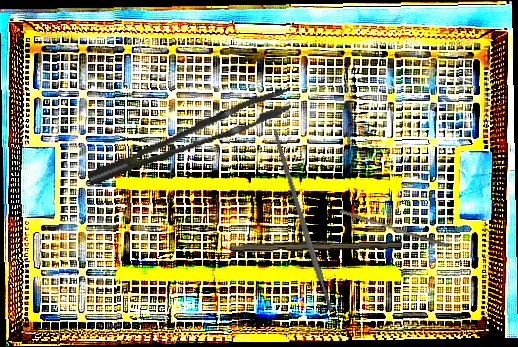Pusher: (338, 208, 450, 248)
Scalpel Handle: (270, 127, 334, 313), (229, 236, 403, 255)
Tissue Forceps: (79, 88, 298, 186)
